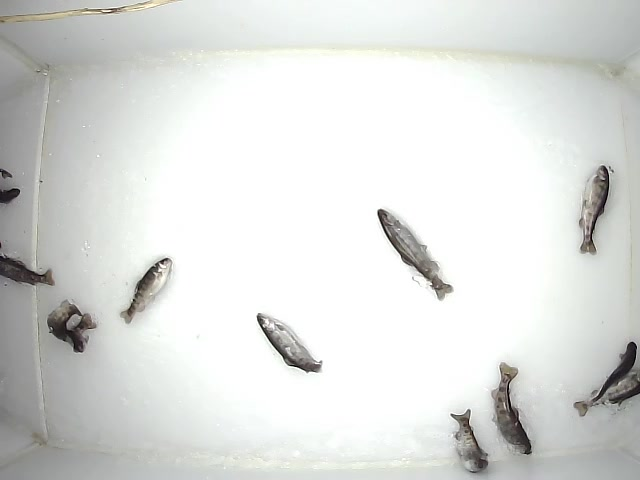fish: (376, 208, 455, 301), (571, 339, 639, 418), (253, 310, 323, 374), (488, 360, 535, 454), (119, 255, 173, 324), (575, 160, 612, 256), (45, 296, 99, 355), (447, 407, 490, 473)
